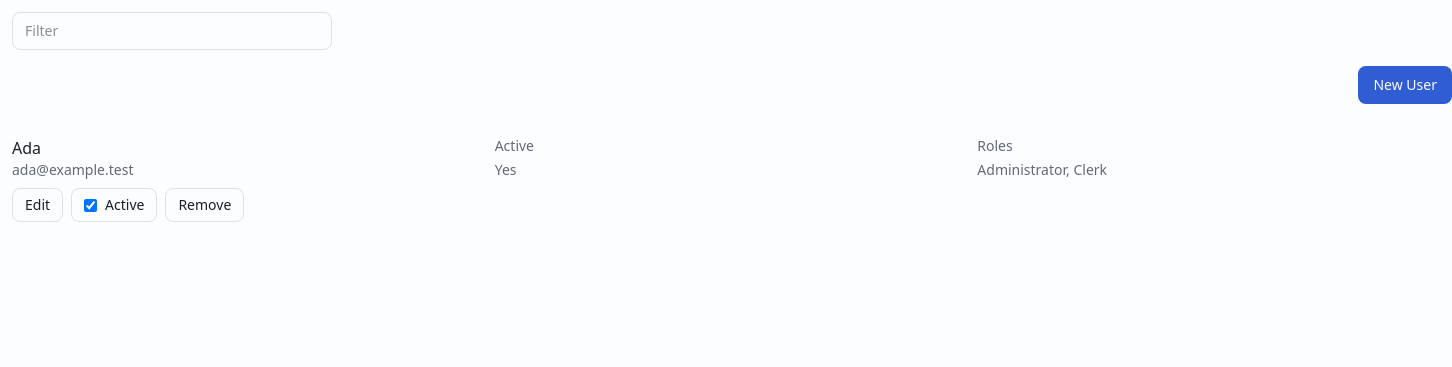
Scenario: UsersList row actions › shows a refused role save inside the editor
Expected: the text "ada@example.test" is shown, [12,160,134,179]
Step 1. Click the button "Edit" → (38, 205), box [12,188,63,222]
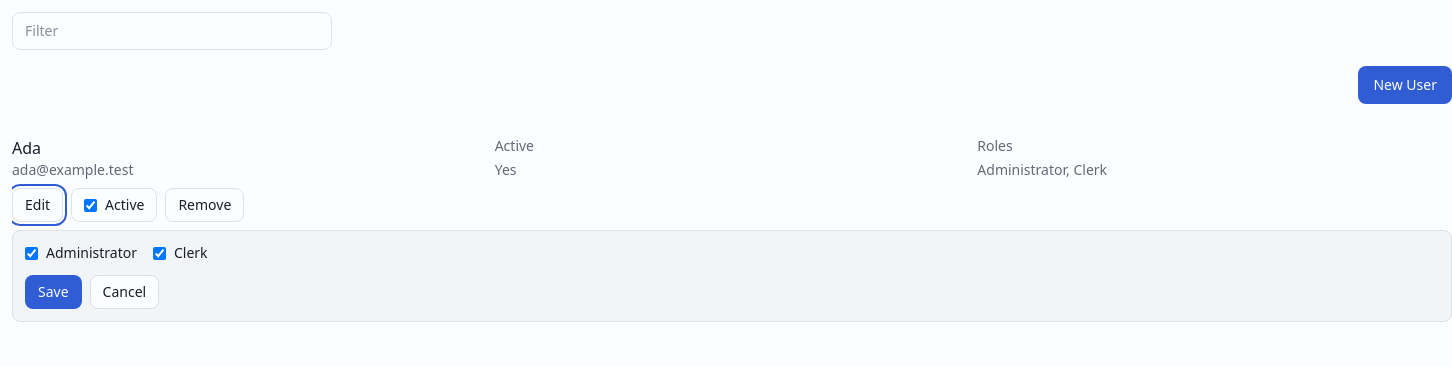
Now the text "Clerk" is shown, box [153,243,208,263]
Note: Drop Administrator, keep Clerk: the server refuses.
Step 2. Click the checkbox labelled "Administrator" → (32, 253), box [25,246,38,260]
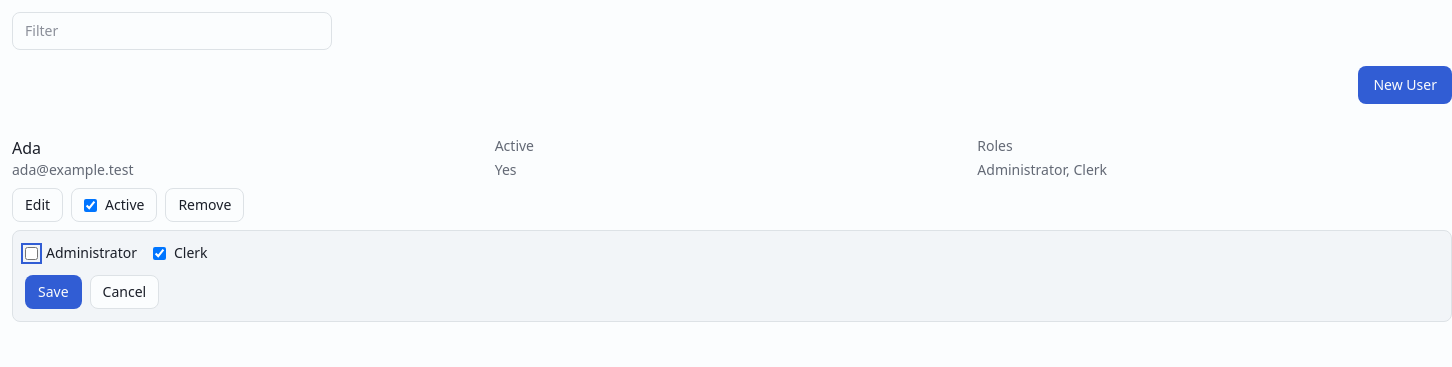
Step 3. Click the button "Save" → (53, 292), box [25,275,82,309]
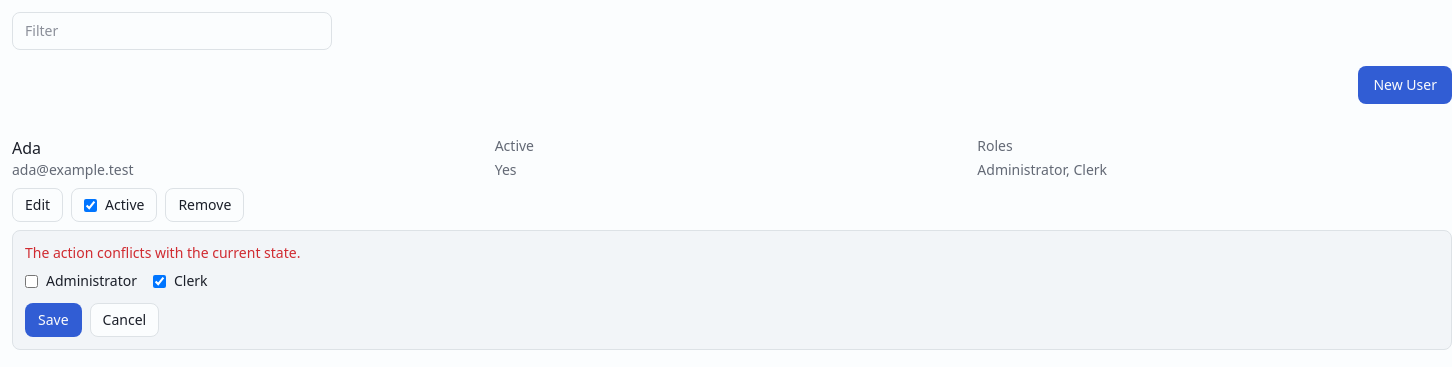
Now the message reads "The action conflicts with the current state.", box [25,243,300,262]
